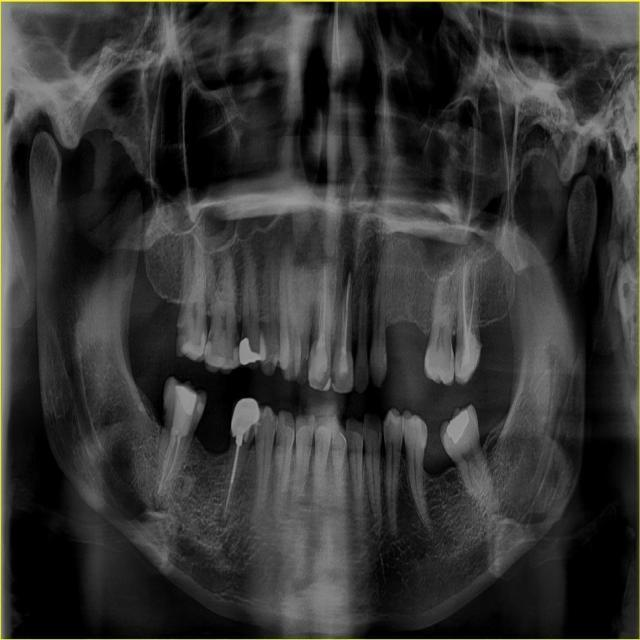71: (228, 425, 246, 486)
74: (158, 430, 185, 496), (157, 426, 179, 494), (317, 265, 329, 350), (340, 271, 351, 356), (466, 267, 478, 342), (463, 263, 470, 368), (224, 481, 232, 517)
NucleOSS Implant: (442, 405, 473, 445), (229, 337, 263, 372)
Sterngold Implant: (176, 320, 189, 355), (161, 404, 171, 432), (230, 325, 240, 346), (207, 329, 215, 344), (241, 325, 248, 341), (331, 369, 338, 384), (450, 355, 455, 371)
Straumann Implant: (453, 331, 488, 383), (171, 386, 197, 437), (180, 332, 215, 365), (203, 341, 238, 372), (309, 340, 327, 381), (337, 353, 350, 378), (197, 401, 204, 414)
Zimmer Implant: (230, 397, 261, 433)
